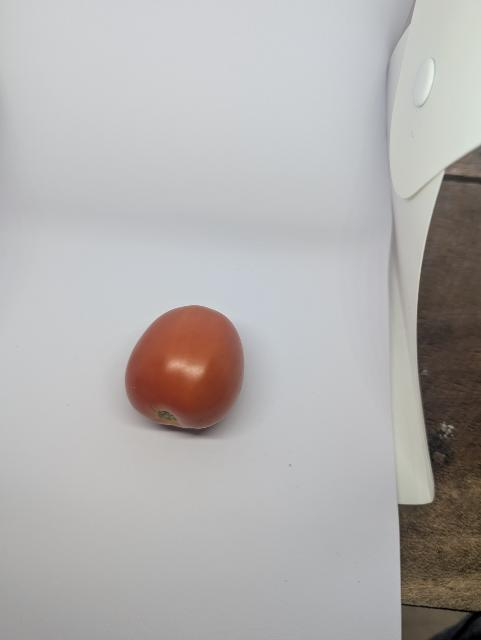red: (123, 296, 249, 449)
